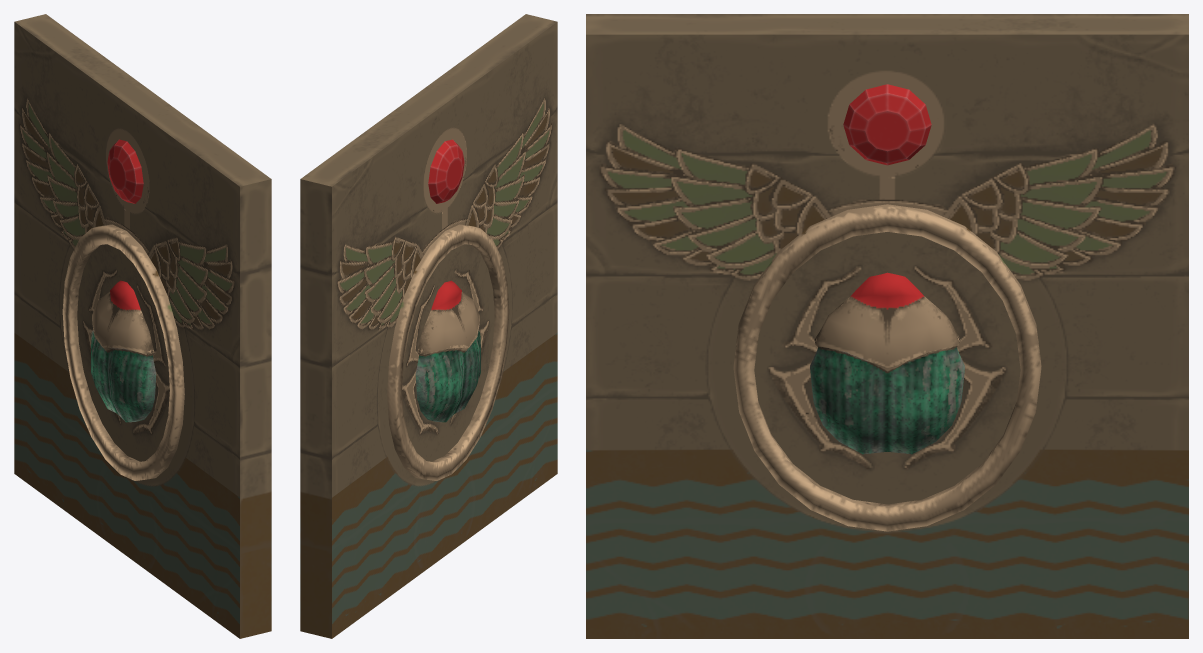
The model's file is Door_Art.glb.
3 views of the same model, side by side, from view 1: azimuth 30°, elevation 25°; view 2: azimuth 150°, elevation 25°; view 3: azimuth 270°, elevation 25° (orthographic). The views are drawn at different scales.
Visible parts, largest first — view 1: Door_Art; view 2: Door_Art; view 3: Door_Art.
Part boxes in pixels (x1=…): Door_Art: x1=14, y1=14, x2=271, y2=638; Door_Art: x1=300, y1=14, x2=557, y2=638; Door_Art: x1=586, y1=14, x2=1188, y2=638.
Size of the model in its own units: 0.9531 by 5.01 by 4.53.
1 material, 1 textured.
